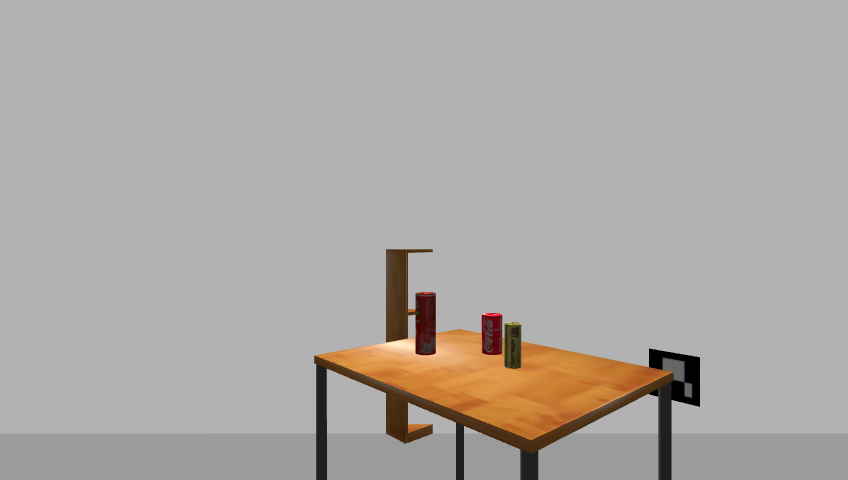aruco marker: (644, 347, 705, 408)
biscuits pack: (505, 323, 523, 370)
bookshelf: (381, 246, 437, 447)
coke can: (480, 312, 503, 356)
dinner table: (307, 328, 682, 480)
pringles can: (413, 291, 438, 357)
